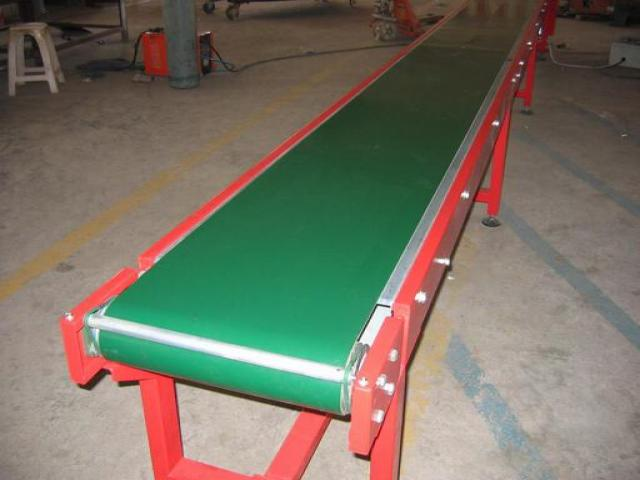conveyor: (58, 0, 568, 479)
